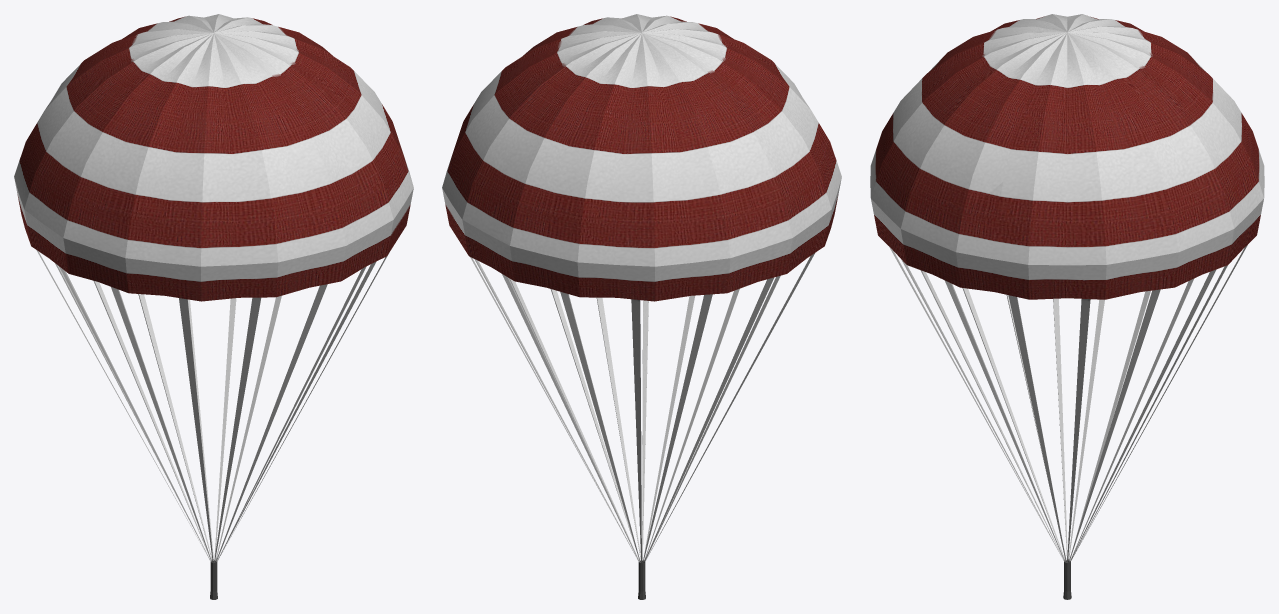
The model's file is parashut_static.fbx.
The picture shows the model from 3 angles, left to right: view 1: azimuth 30°, elevation 25°; view 2: azimuth 150°, elevation 25°; view 3: azimuth 270°, elevation 25°; orthographic projection.
Parts seen in each view (by area): view 1: parashut.002; view 2: parashut.002; view 3: parashut.002.
Boxes of the visible parts, x1,y1,x2,y2 form: parashut.002: (14, 14, 413, 599); parashut.002: (442, 14, 841, 599); parashut.002: (870, 14, 1264, 599).
Size of the model in its own units: 1184 by 1874 by 1184.
